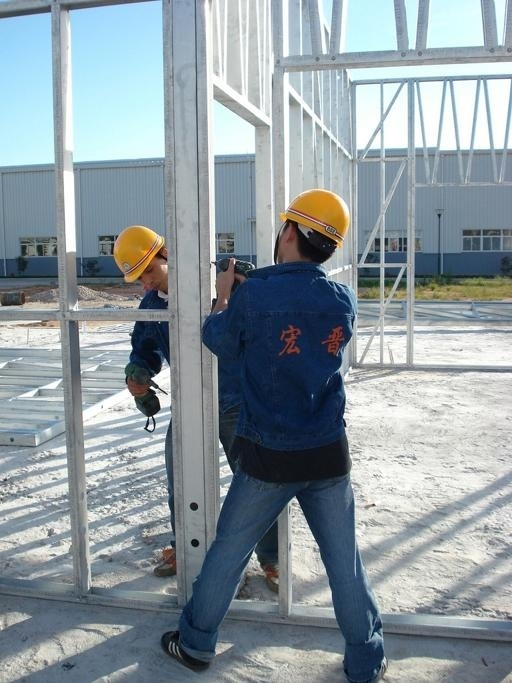People: (161, 189, 386, 682), (125, 321, 171, 429), (114, 225, 167, 310), (154, 419, 176, 576), (219, 363, 239, 470), (255, 522, 276, 592)
helmet: (280, 188, 350, 247), (114, 225, 163, 282)
